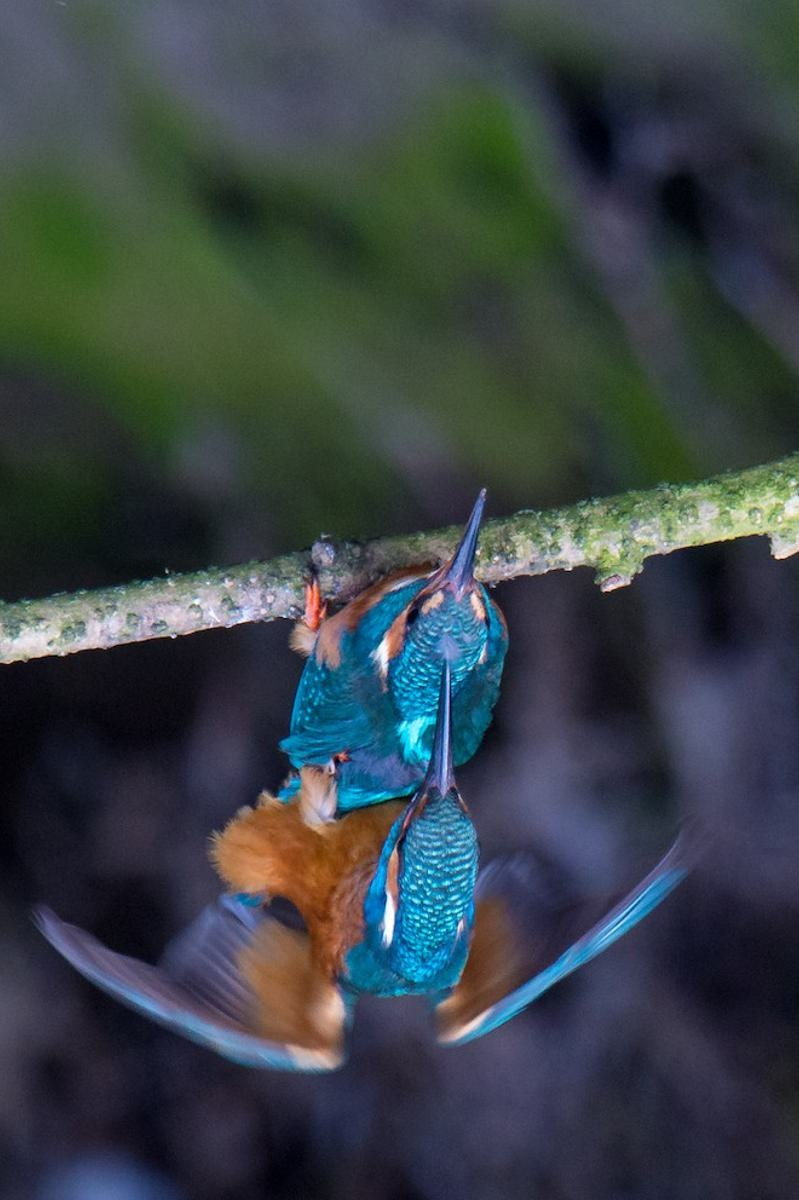kingfisher: (25, 658, 717, 1057), (243, 471, 583, 793)
